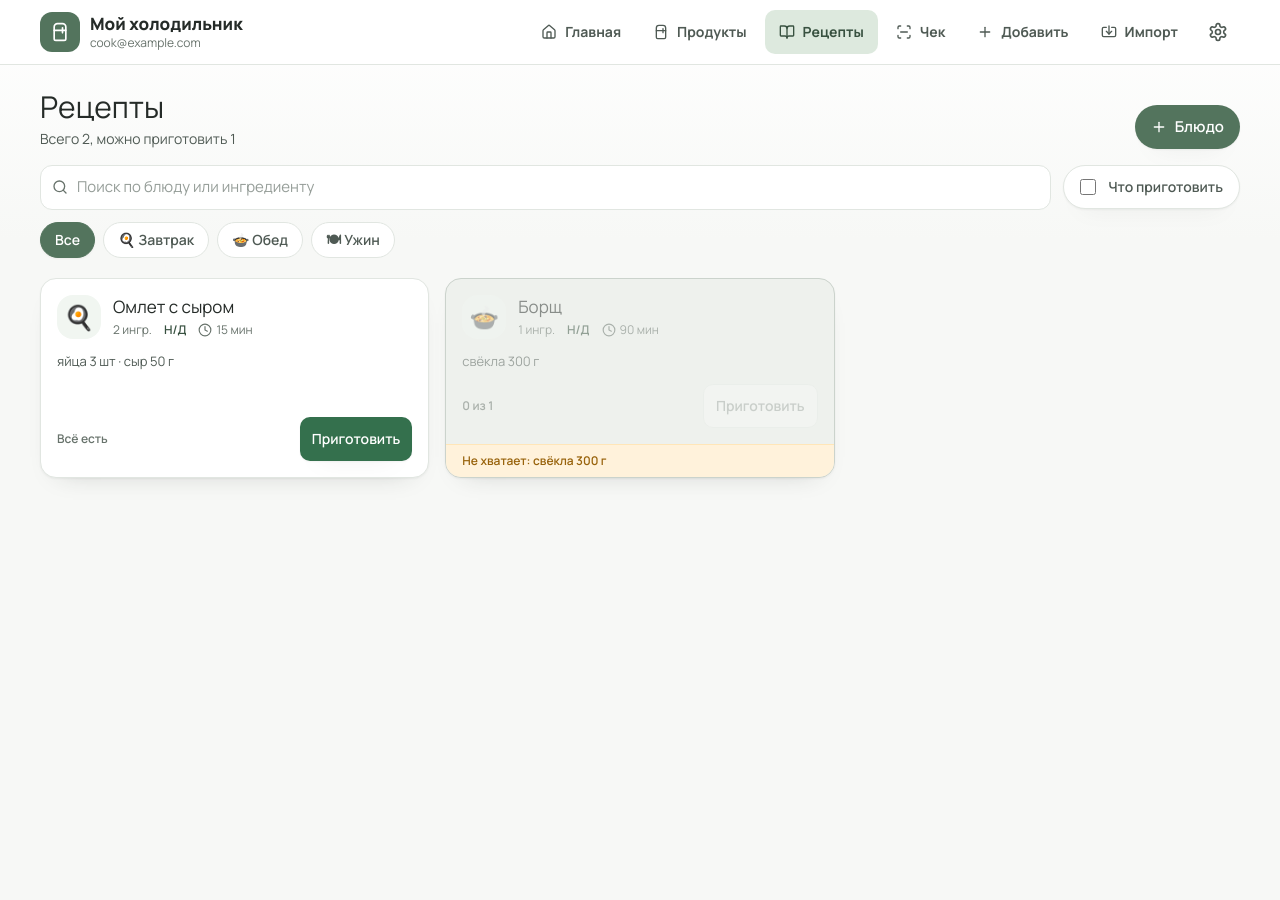
Scenario: Подсказки ингредиентов из холодильника › стрелки и Enter выбирают подсказку с клавиатуры
This screenshot has width=1280, height=900.
Check: the text "Омлет с сыром" is shown, box [113, 294, 234, 318]
Click the link "Добавить" at (1023, 32), box [977, 22, 1069, 41]
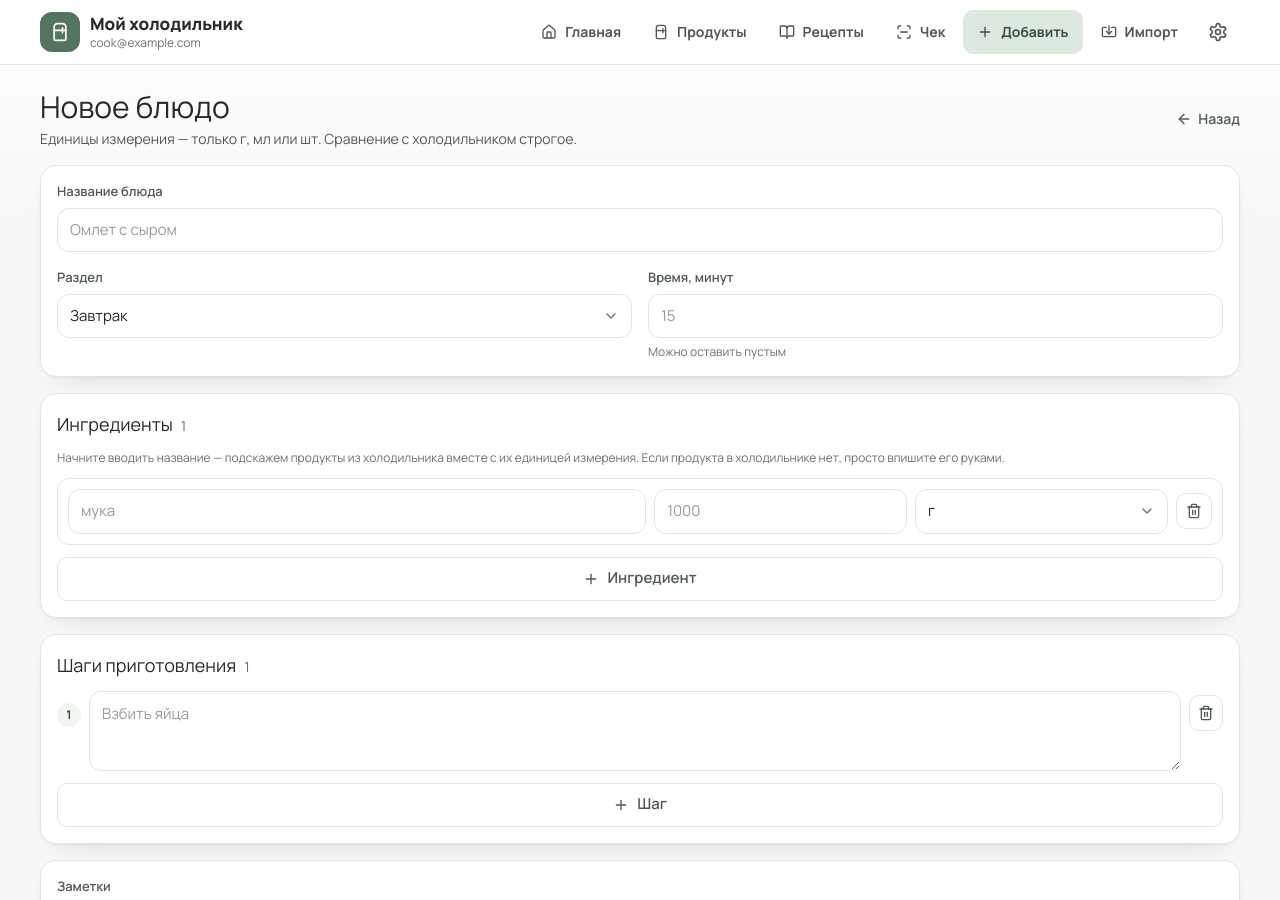
Check: the dropdown named "Название ингредиента №1" is shown
Type "о" into the dropdown named "Название ингредиента №1" at (357, 511), box [68, 489, 646, 534]
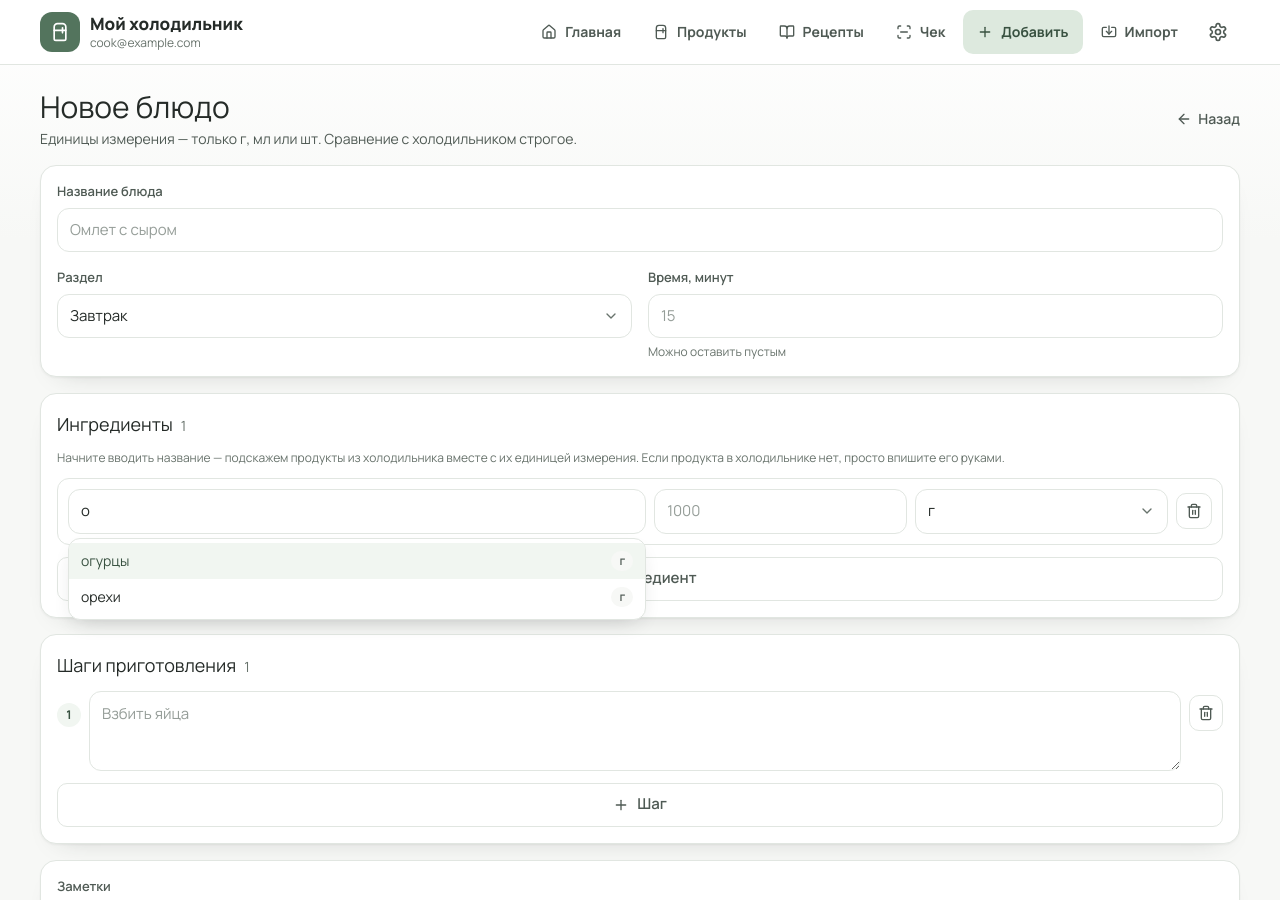
Press ArrowDown in the dropdown named "Название ингредиента №1", box [68, 489, 646, 534]
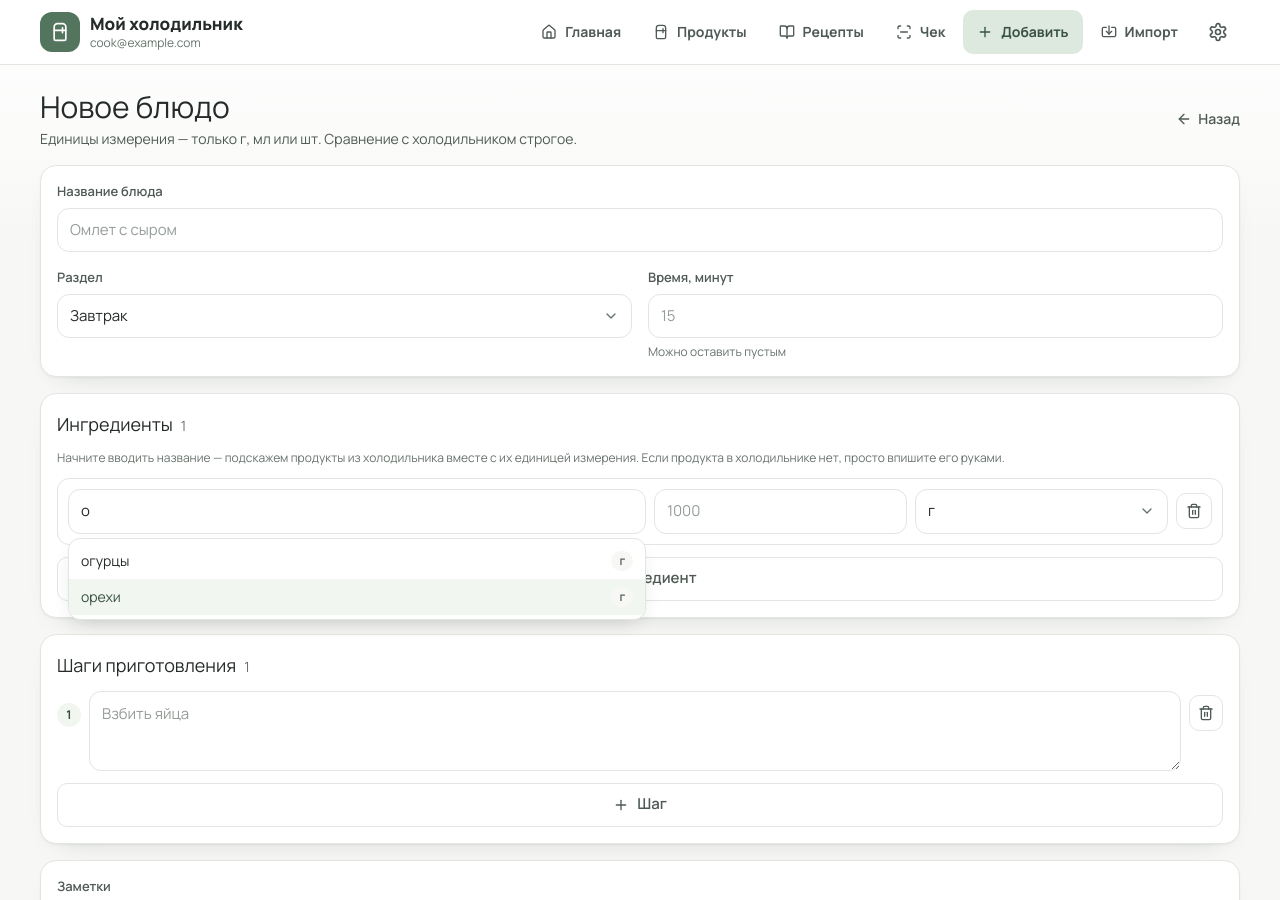
Press Enter in the dropdown named "Название ингредиента №1", box [68, 489, 646, 534]
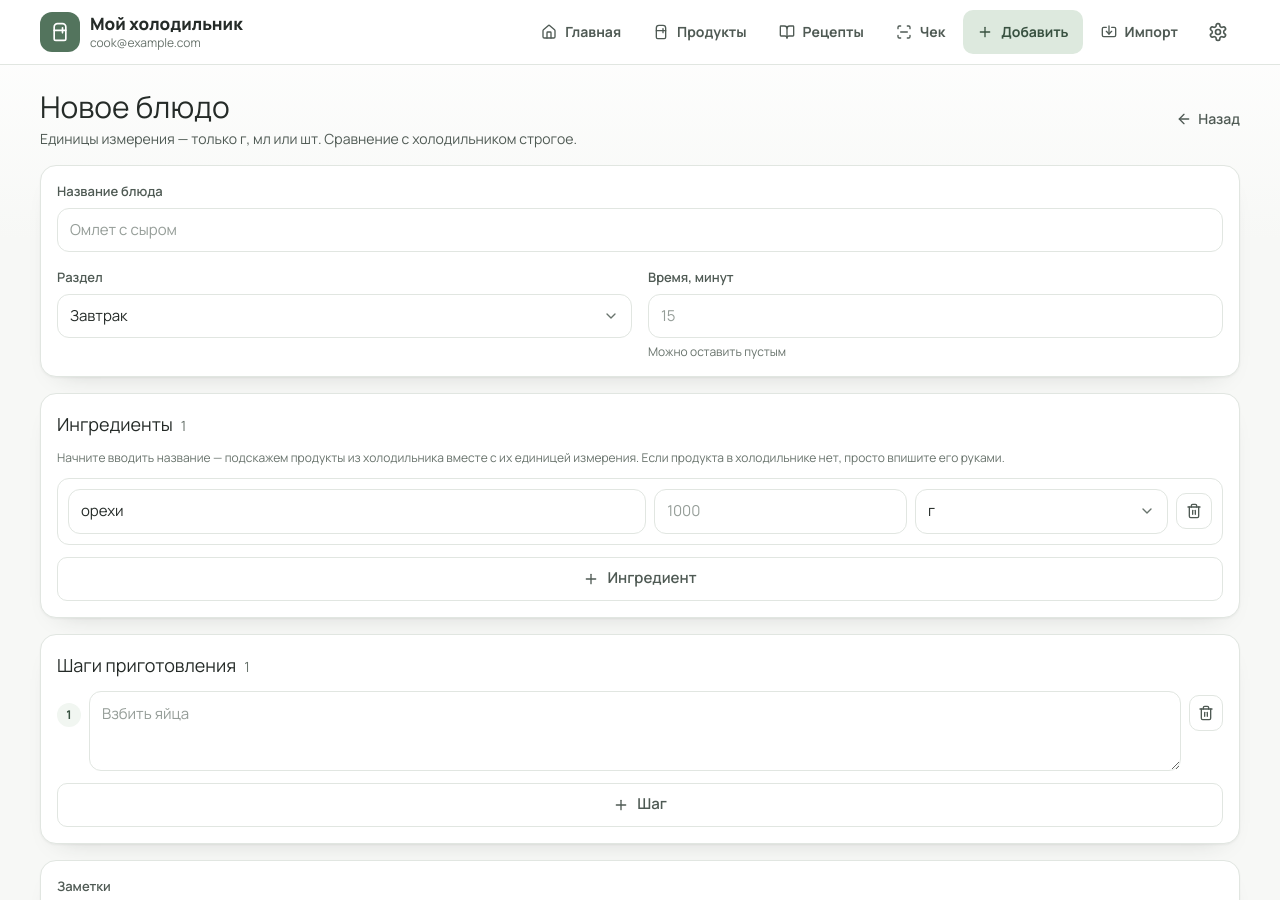
Check: the dropdown named "Название ингредиента №1" holds "орехи", box [68, 489, 646, 534]
Check: the list is gone
